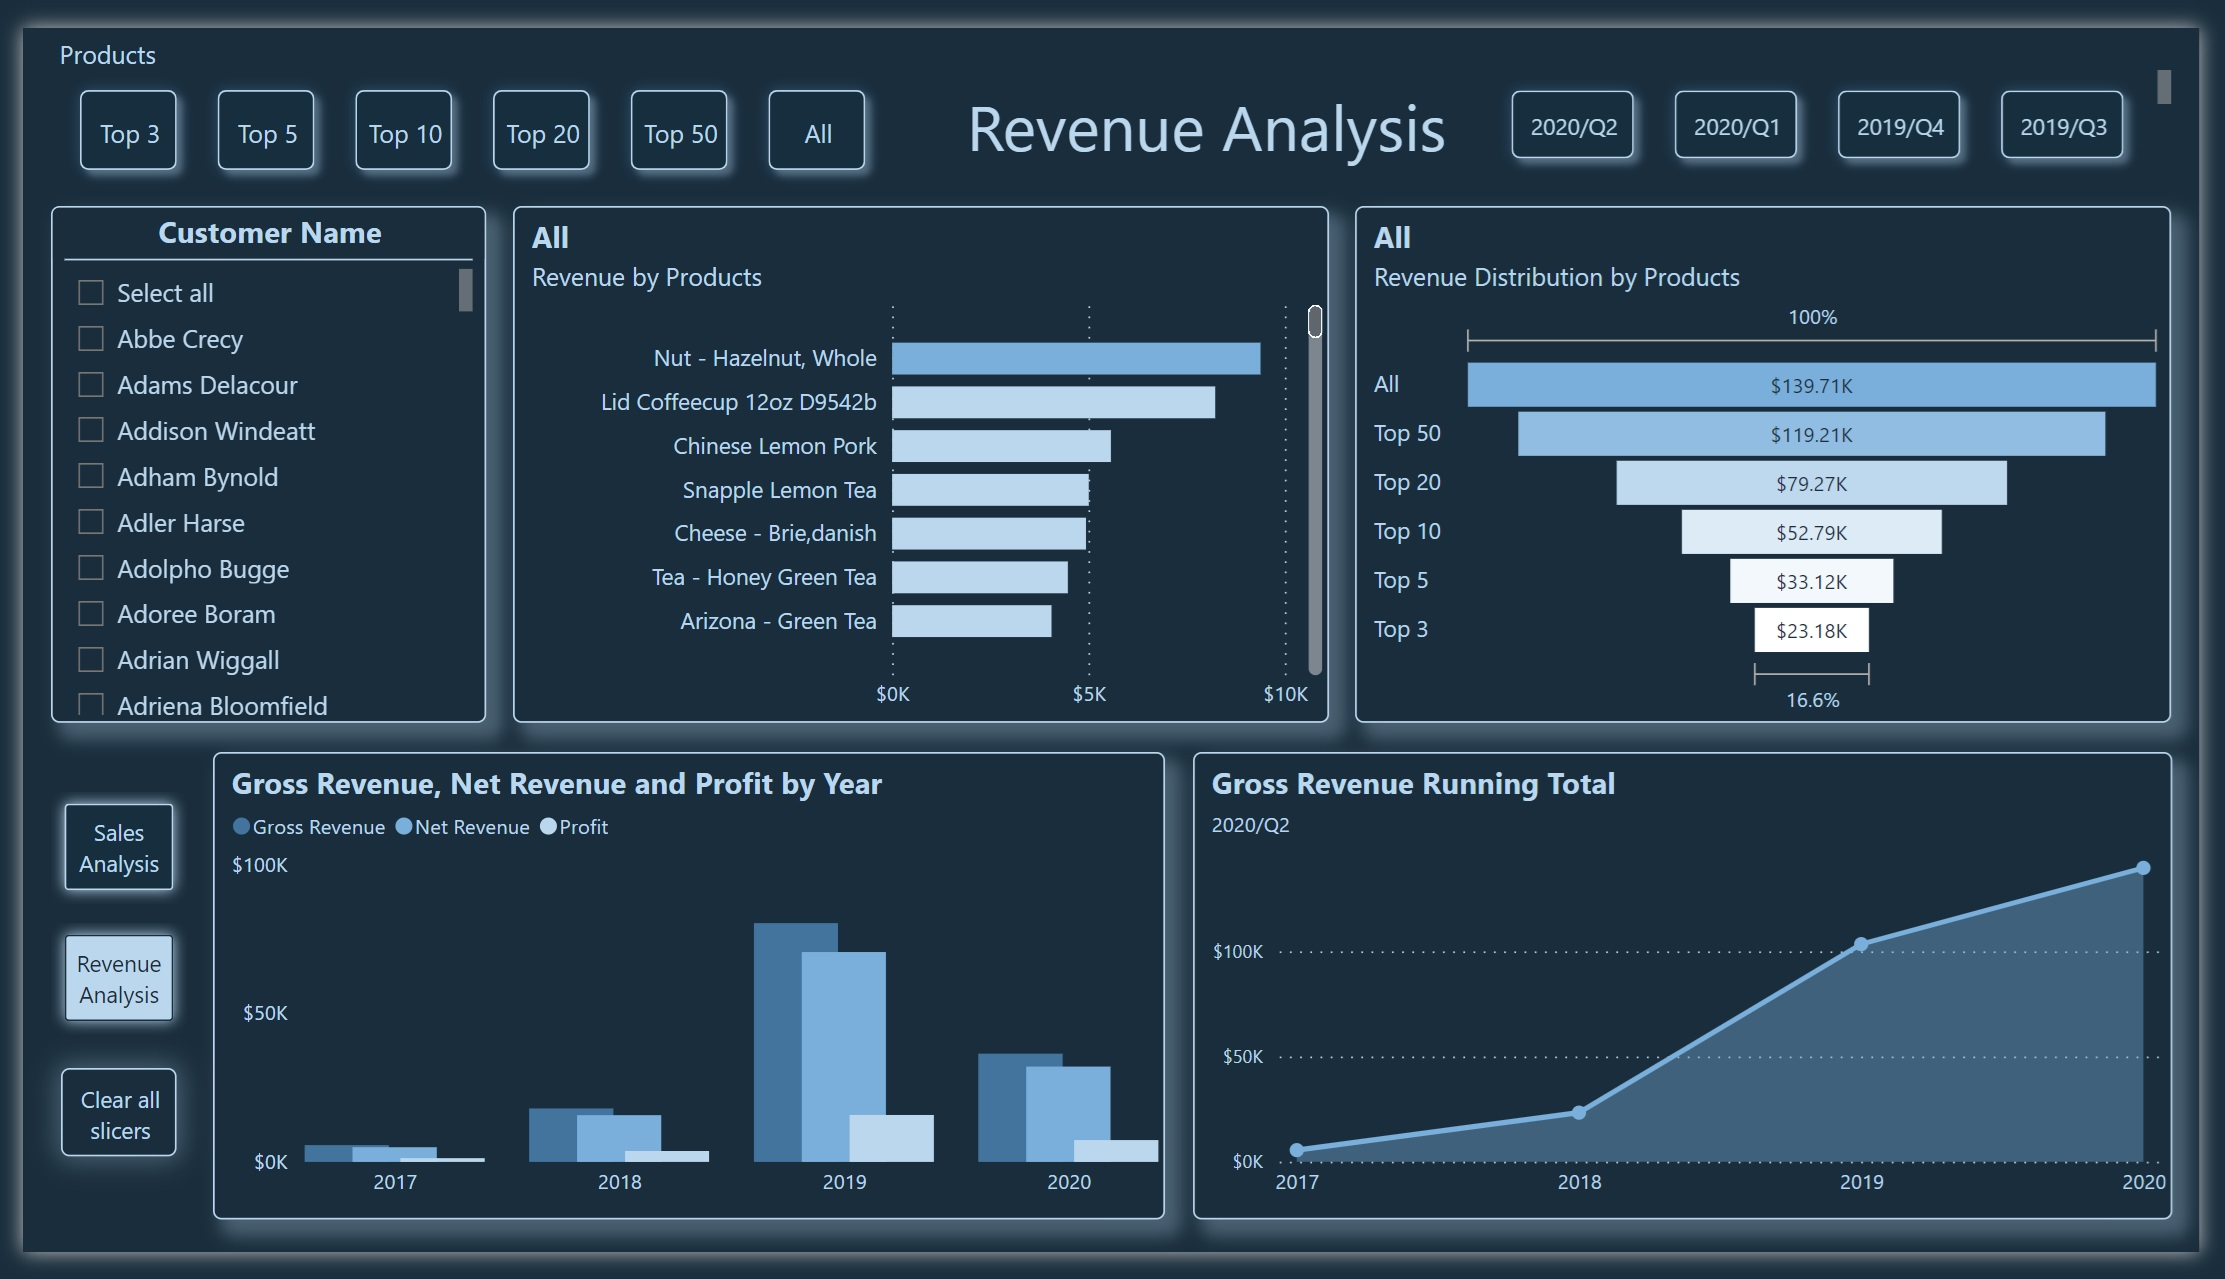

The dashboard page shown, as its layout file describes it:
{"tool":"powerbi","page":{"name":"Revenue Analysis","canvas":[1280,720],"ordinal":1},"visuals":[{"type":"pageNavigator","box":[16,448,80,144],"z":0},{"type":"slicer","title":"Customer Name ","fields":{"Values":["customer.name"]},"box":[16,105,256,304],"z":2000},{"type":"advancedSlicerVisual","title":"Products ","fields":{"Values":["TopNFilterProject.TopNName"]},"box":[16,0,496,96],"z":3000},{"type":"barChart","fields":{"Y":["Key Measures.Revenue by Top N Products"],"Category":["products.product"]},"box":[288,105,480,304],"z":4000},{"type":"funnel","fields":{"Category":["TopNFilterProject.TopNName"],"Y":["Key Measures.Revenue by Top N Products"]},"box":[784,105,480,304],"z":5000},{"type":"areaChart","title":"Gross Revenue Running Total","fields":{"Y":["Key Measures.Gross Revenue running total"],"Category":["DateTable.Year","DateTable.YearQuarter","DateTable.YearMonth"]},"box":[688,426,576,275],"z":6000},{"type":"advancedSlicerVisual","title":"Year/Quarter","fields":{"Values":["DateTable.YearQuarter"]},"box":[864,25,400,64],"z":7000},{"type":"actionButton","box":[22,612,68,52],"z":8000},{"type":"clusteredColumnChart","fields":{"Category":["DateTable.Year","DateTable.YearQuarter","DateTable.YearMonth"],"Y":["Key Measures.Gross Revenue","Key Measures.Net Revenue","Key Measures.Profit"]},"box":[112,426,560,275],"z":9000},{"type":"textbox","box":[528,27,336,64],"z":10000}]}

Visuals, with their boxes in screenshot pixels (x1, y1, x2, y2), scaled from the page's 1280x720 canvas onto the 2225x1279 screenshot:
pageNavigator: {"x1": 28, "y1": 796, "x2": 167, "y2": 1052}
"Customer Name " slicer: {"x1": 28, "y1": 187, "x2": 473, "y2": 727}
"Products " advancedSlicerVisual: {"x1": 28, "y1": 0, "x2": 890, "y2": 171}
barChart - Key Measures.Revenue by Top N Products x products.product: {"x1": 501, "y1": 187, "x2": 1335, "y2": 727}
funnel - TopNFilterProject.TopNName x Key Measures.Revenue by Top N Products: {"x1": 1363, "y1": 187, "x2": 2197, "y2": 727}
"Gross Revenue Running Total" areaChart: {"x1": 1196, "y1": 757, "x2": 2197, "y2": 1245}
"Year/Quarter" advancedSlicerVisual: {"x1": 1502, "y1": 44, "x2": 2197, "y2": 158}
actionButton: {"x1": 38, "y1": 1087, "x2": 156, "y2": 1180}
clusteredColumnChart - DateTable.Year x DateTable.YearQuarter: {"x1": 195, "y1": 757, "x2": 1168, "y2": 1245}
textbox: {"x1": 918, "y1": 48, "x2": 1502, "y2": 162}
